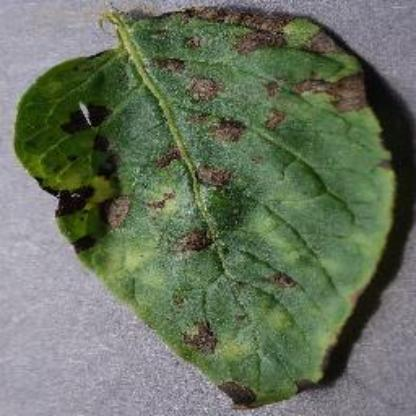Early-Blight: (17, 7, 400, 407)
